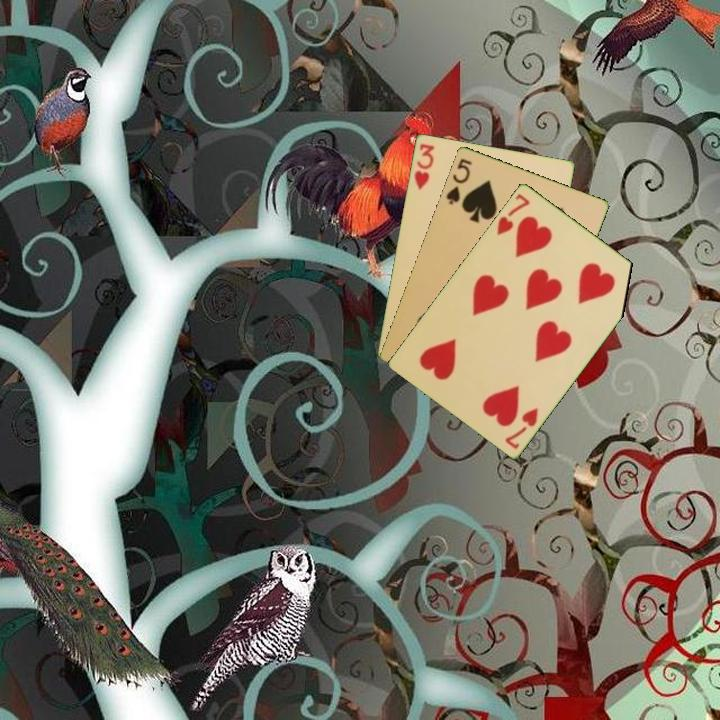3h: (410, 140, 437, 192)
5s: (442, 155, 475, 207)
7h: (501, 403, 541, 452), (493, 189, 532, 238)
